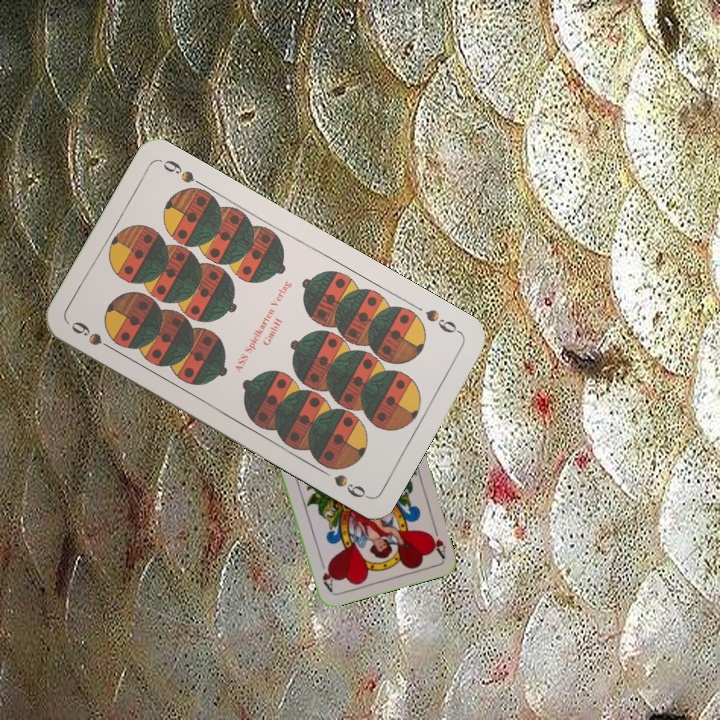HA: (425, 520, 448, 560)
S9: (67, 317, 120, 355), (421, 305, 464, 337)
